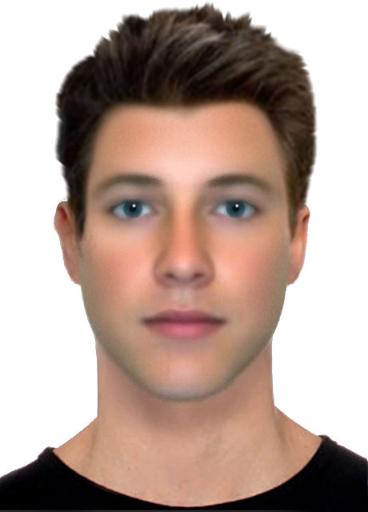left_eye: (207, 197, 263, 226)
left_lip_corner: (216, 314, 233, 333)
right_eye: (105, 198, 161, 226)
right_lip_corner: (137, 312, 154, 333)
